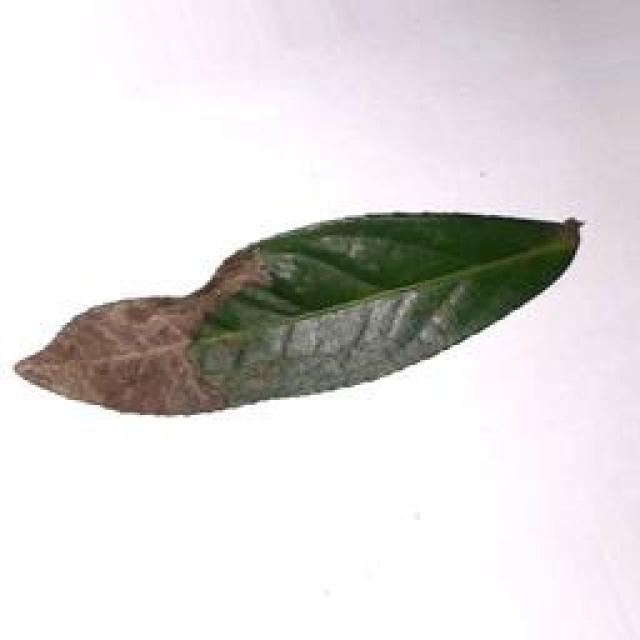Brown Blight: (0, 202, 591, 450)
